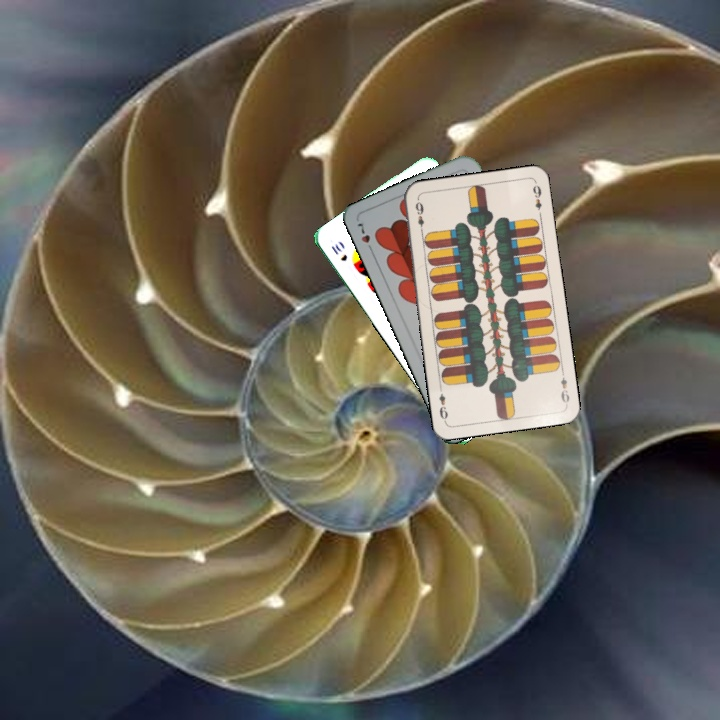E9: (556, 366, 572, 407), (411, 196, 426, 236)
H7: (353, 219, 376, 256)
S10: (327, 240, 350, 264)
